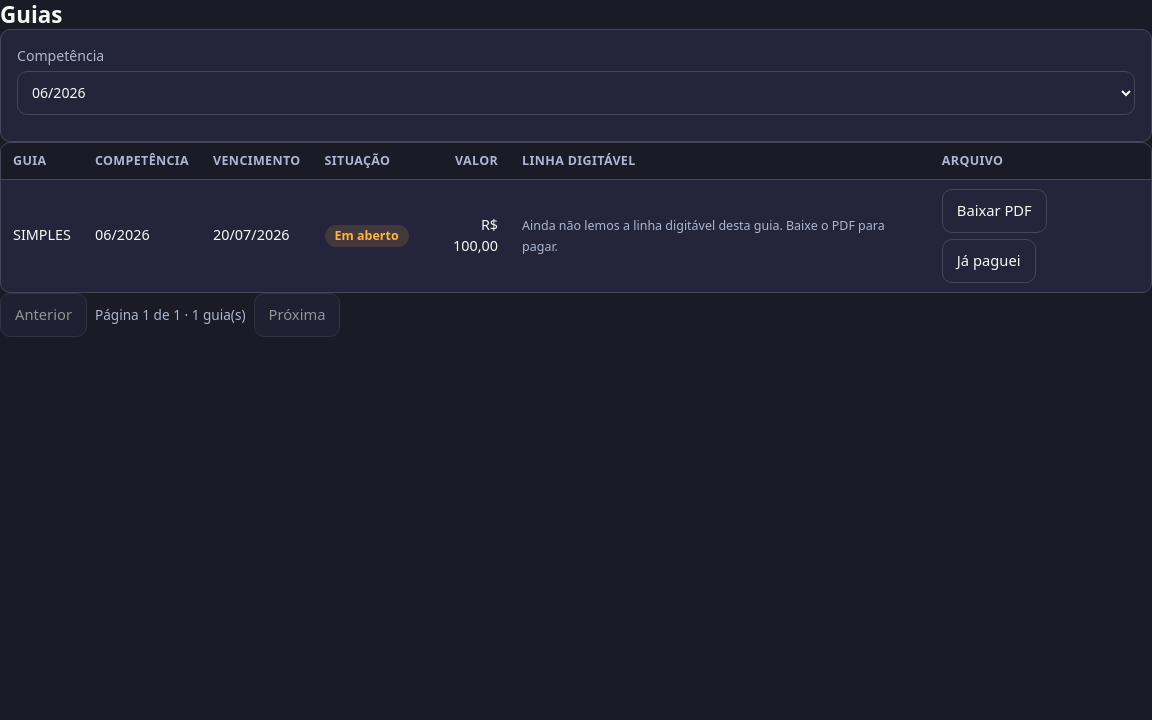
Test: envia versão e data explícitas; distingue baixa CONCLUIDA
Step 1. Click the button "Já paguei" → (989, 261), box [942,239,1036,283]
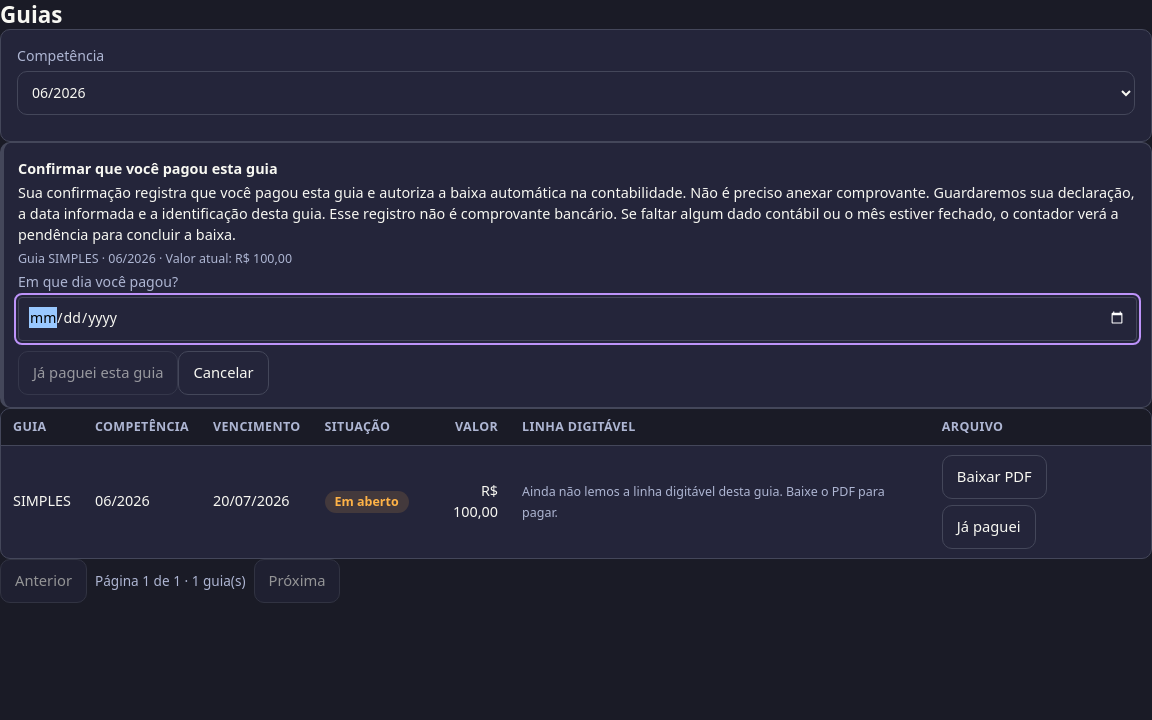
Step 2. Type "2026-07-14" into the date field labelled "Em que dia você pagou?" → (578, 318), box [18,296,1137,340]
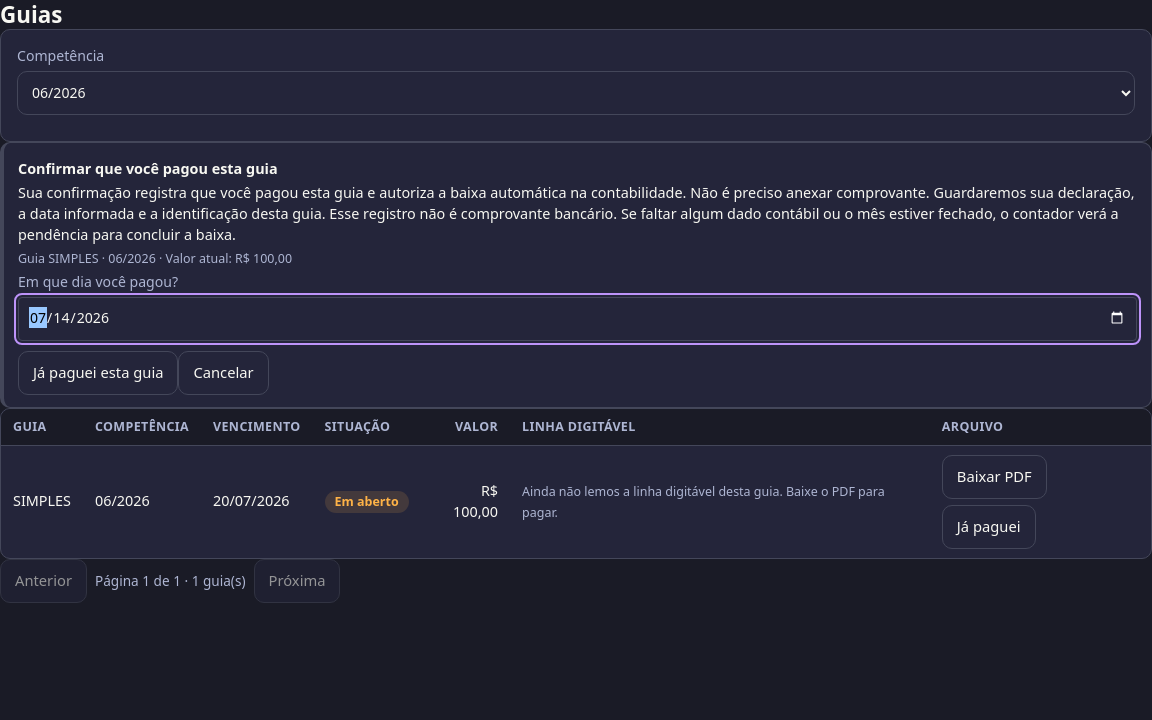
Step 3. Click the button "Já paguei esta guia" → (98, 372), box [18,350,178,394]
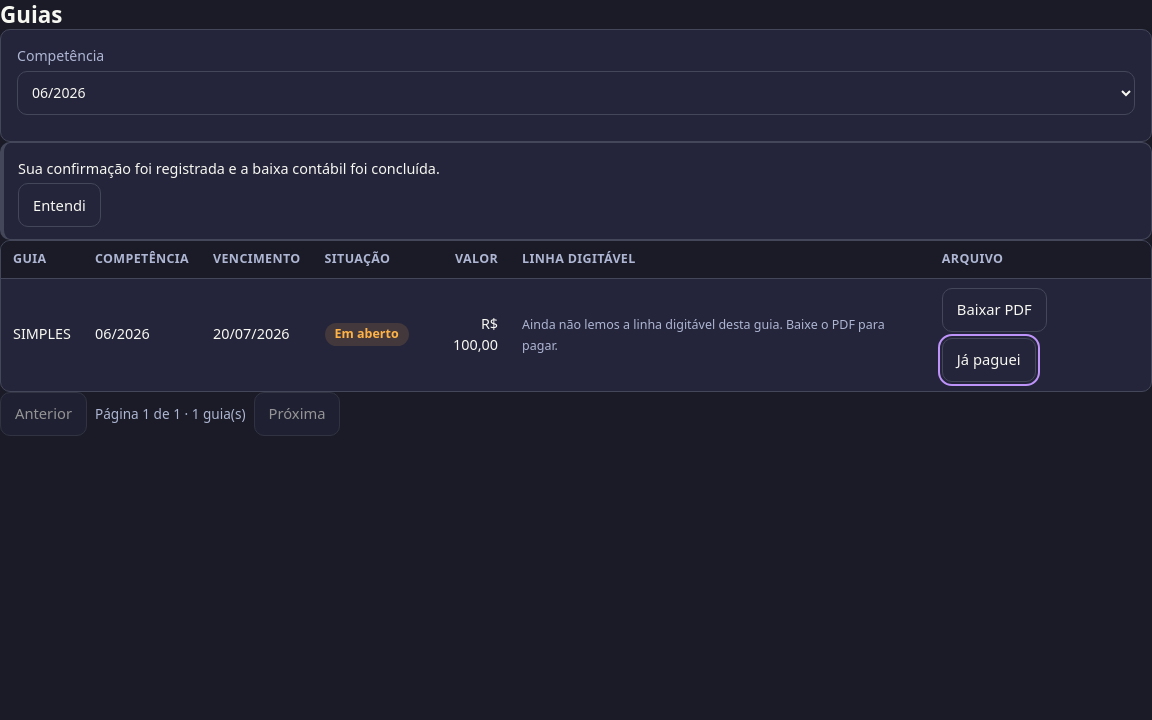
Check: the text "baixa contábil foi concluída" is shown, box [18,158,440,178]
